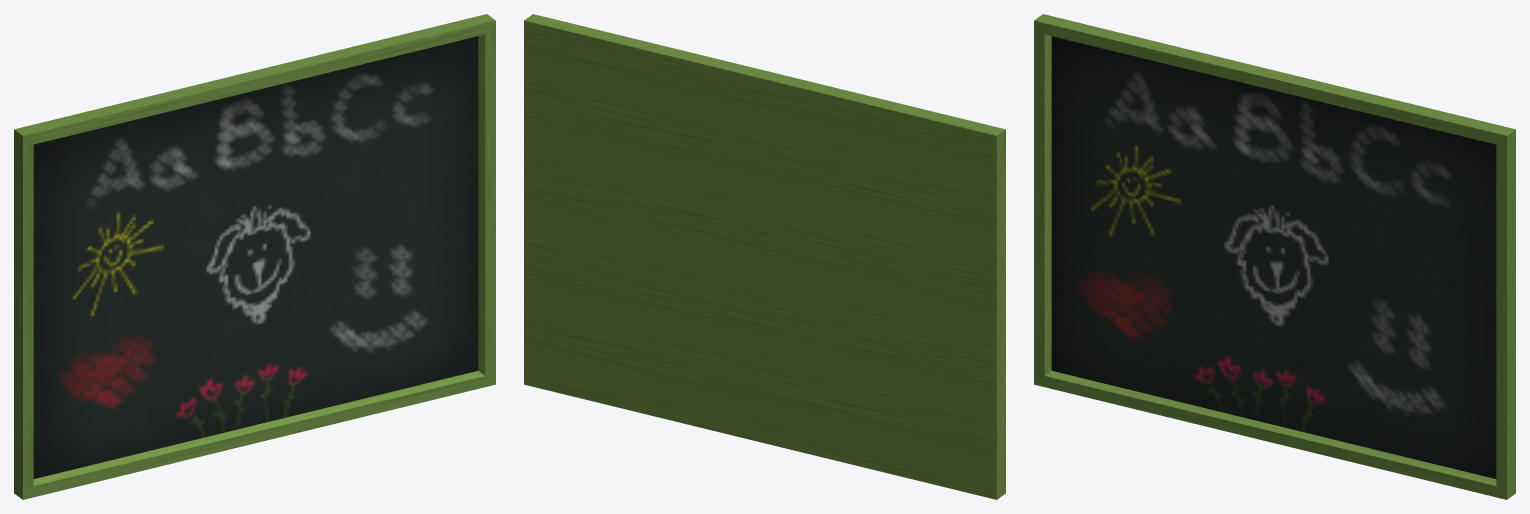
Rendered from Chalkboard_D.FBX.
3 renders of one model, left to right at view 1: azimuth 30°, elevation 25°; view 2: azimuth 150°, elevation 25°; view 3: azimuth 330°, elevation 25°, orthographic.
Visible parts, largest first — view 1: Chalk_Board; view 2: Chalk_Board; view 3: Chalk_Board.
Boxes of the visible parts, x1,y1,x2,y2 form: Chalk_Board: [14, 14, 495, 499]; Chalk_Board: [524, 14, 1005, 499]; Chalk_Board: [1034, 14, 1515, 499].
Size of the model in its own units: 143 by 105 by 4.7.
